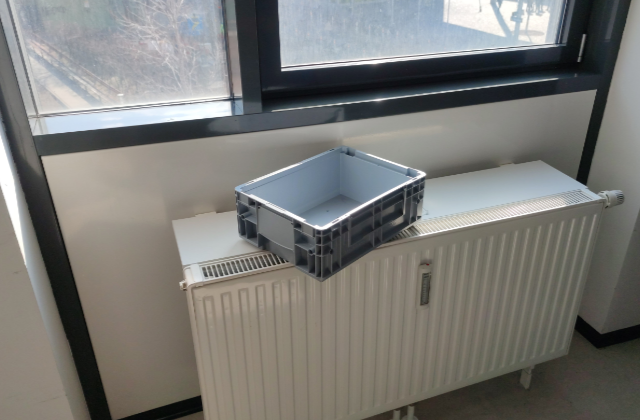Box: (233, 144, 427, 284)
